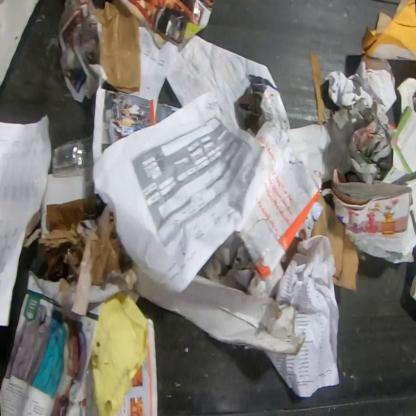cardboard: (131, 260, 307, 357), (310, 195, 360, 293), (360, 0, 415, 62)
rigid_plastic: (51, 136, 94, 178)
